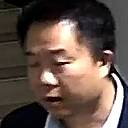cb: (11, 15, 112, 116)
